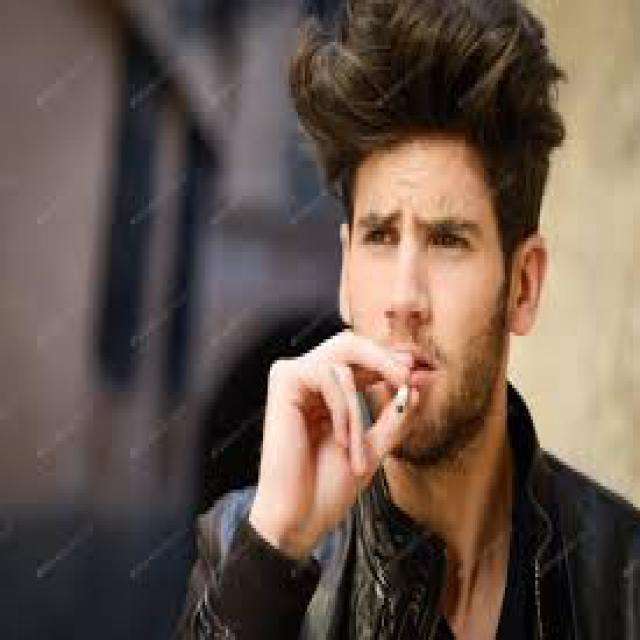smoking: (362, 335, 443, 418)
